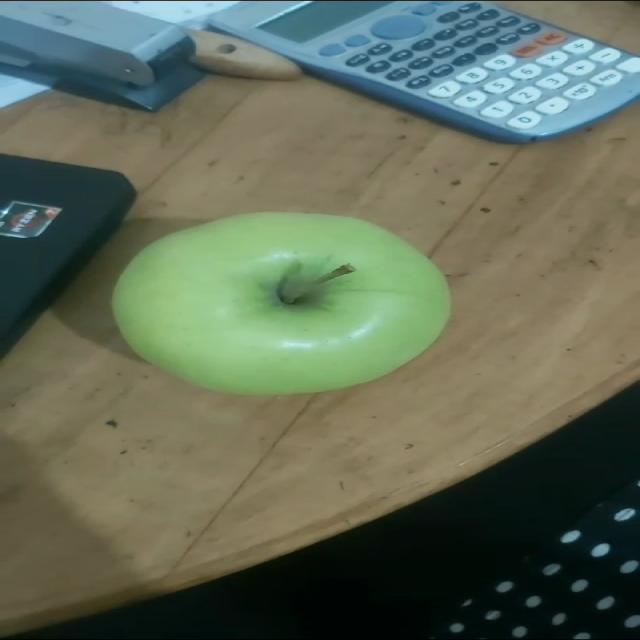50-_ripeness: (108, 211, 449, 396)
